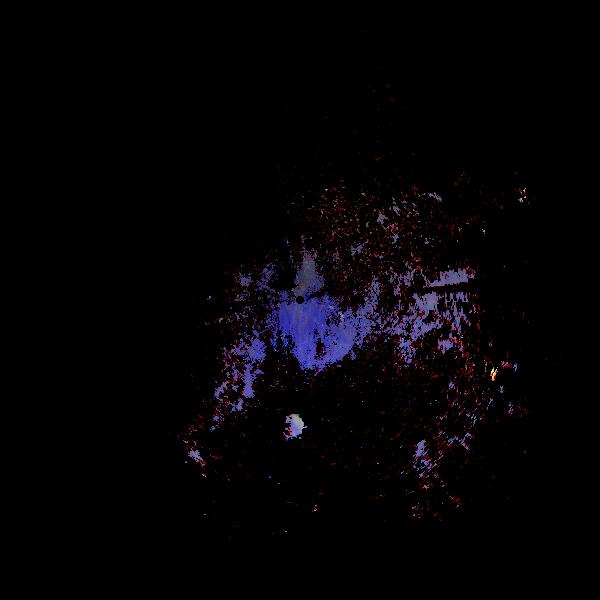roost: (283, 414, 307, 438), (312, 509, 318, 515)
